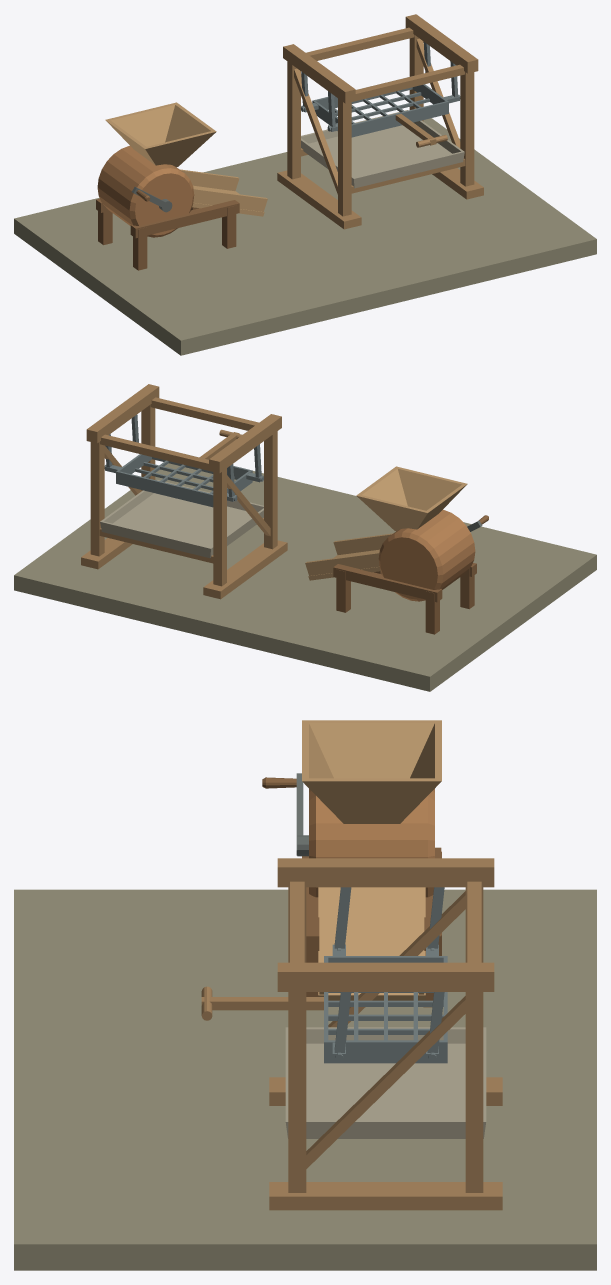
3 renders of one model, top to bottom at view 1: azimuth 30°, elevation 25°; view 2: azimuth 150°, elevation 25°; view 3: azimuth 270°, elevation 25°, orthographic. The views are drawn at different scales.
Visible parts, largest first — view 1: SceneOnly_ContinuousFloor, riddle__WholeLowBlindReceivingPan, winnower__WholeRoundedFanHousingDisplaySolid, winnower__WholeSquareOpenTaperedHopper, riddle__WholeSuspendedPerforatedRiddleTray, riddle__WholeLongGroundSkid0, riddle__WholeFullHeightPost10, riddle__WholeFullHeightPost00, riddle__WholeHighSuspensionRail0, riddle__WholeHighSuspensionRail1, riddle__WholeFullHeightPost01, winnower__WholeLongTimberSupportBeam1 (+12 smaller); view 2: SceneOnly_ContinuousFloor, riddle__WholeLowBlindReceivingPan, winnower__WholeRoundedFanHousingDisplaySolid, winnower__WholeSquareOpenTaperedHopper, riddle__WholeSuspendedPerforatedRiddleTray, riddle__WholeLongGroundSkid0, riddle__WholeFullHeightPost11, riddle__WholeFullHeightPost01, riddle__WholeHighSuspensionRail0, riddle__WholeFullHeightPost00, riddle__WholeHighSuspensionRail1, winnower__WholeLongTimberSupportBeam2 (+11 smaller); view 3: SceneOnly_ContinuousFloor, riddle__WholeLowBlindReceivingPan, winnower__WholeSquareOpenTaperedHopper, riddle__WholeHighSuspensionRail1, riddle__WholeLongGroundSkid1, riddle__WholeHighSuspensionRail0, winnower__WholeSlopingDischargeTroughFloor, winnower__WholeRoundedFanHousingDisplaySolid, riddle__WholeSuspendedPerforatedRiddleTray, riddle__WholeFullHeightPost10, riddle__WholeFullHeightPost11, riddle__WholeSideFrameDiagonal1 (+6 smaller).
Part boxes in pixels (bbox=[...]): SceneOnly_ContinuousFloor: bbox=[14, 118, 596, 355]; riddle__WholeLowBlindReceivingPan: bbox=[301, 110, 464, 188]; winnower__WholeRoundedFanHousingDisplaySolid: bbox=[97, 145, 194, 237]; winnower__WholeSquareOpenTaperedHopper: bbox=[105, 102, 216, 167]; riddle__WholeSuspendedPerforatedRiddleTray: bbox=[312, 84, 448, 137]; riddle__WholeLongGroundSkid0: bbox=[277, 170, 361, 229]; riddle__WholeFullHeightPost10: bbox=[460, 72, 474, 186]; riddle__WholeFullHeightPost00: bbox=[338, 98, 351, 216]; riddle__WholeHighSuspensionRail0: bbox=[283, 44, 355, 103]; riddle__WholeHighSuspensionRail1: bbox=[405, 14, 478, 73]; riddle__WholeFullHeightPost01: bbox=[287, 61, 300, 179]; winnower__WholeLongTimberSupportBeam1: bbox=[130, 200, 239, 238]; SceneOnly_ContinuousFloor: bbox=[14, 463, 596, 691]; riddle__WholeLowBlindReceivingPan: bbox=[100, 480, 263, 558]; winnower__WholeRoundedFanHousingDisplaySolid: bbox=[378, 509, 475, 601]; winnower__WholeSquareOpenTaperedHopper: bbox=[356, 466, 467, 531]; riddle__WholeSuspendedPerforatedRiddleTray: bbox=[116, 454, 252, 507]; riddle__WholeLongGroundSkid0: bbox=[203, 540, 287, 599]; riddle__WholeFullHeightPost11: bbox=[90, 442, 104, 556]; riddle__WholeFullHeightPost01: bbox=[213, 468, 226, 586]; riddle__WholeHighSuspensionRail0: bbox=[209, 414, 281, 473]; riddle__WholeFullHeightPost00: bbox=[264, 431, 277, 549]; riddle__WholeHighSuspensionRail1: bbox=[86, 384, 159, 443]; winnower__WholeLongTimberSupportBeam2: bbox=[333, 564, 442, 602]; SceneOnly_ContinuousFloor: bbox=[14, 889, 596, 1270]; riddle__WholeLowBlindReceivingPan: bbox=[285, 1027, 486, 1138]; winnower__WholeSquareOpenTaperedHopper: bbox=[302, 720, 441, 823]; riddle__WholeHighSuspensionRail1: bbox=[277, 962, 494, 991]; riddle__WholeLongGroundSkid1: bbox=[269, 1182, 502, 1210]; riddle__WholeHighSuspensionRail0: bbox=[277, 858, 494, 887]; winnower__WholeSlopingDischargeTroughFloor: bbox=[318, 887, 425, 1000]; winnower__WholeRoundedFanHousingDisplaySolid: bbox=[309, 789, 434, 897]; riddle__WholeSuspendedPerforatedRiddleTray: bbox=[324, 956, 447, 1063]; riddle__WholeFullHeightPost10: bbox=[288, 992, 306, 1192]; riddle__WholeFullHeightPost11: bbox=[465, 992, 483, 1192]; riddle__WholeSideFrameDiagonal1: bbox=[306, 996, 465, 1168].
Size of the model in its own units: 3.6 by 1.24 by 2.5.
